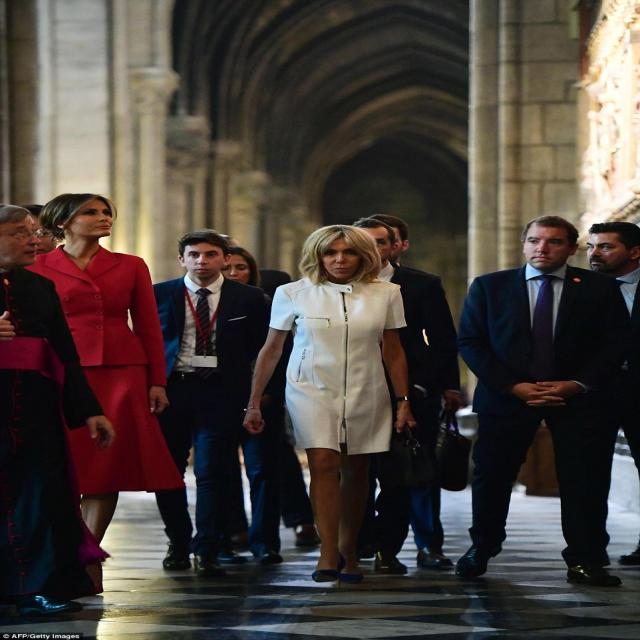body: (446, 213, 632, 593), (236, 220, 420, 586), (18, 190, 172, 596), (343, 216, 464, 575), (146, 228, 270, 575), (367, 211, 469, 551), (584, 220, 640, 565), (255, 414, 322, 553), (21, 200, 68, 252), (17, 202, 60, 256), (220, 246, 260, 287), (253, 262, 295, 300), (200, 223, 250, 250)
